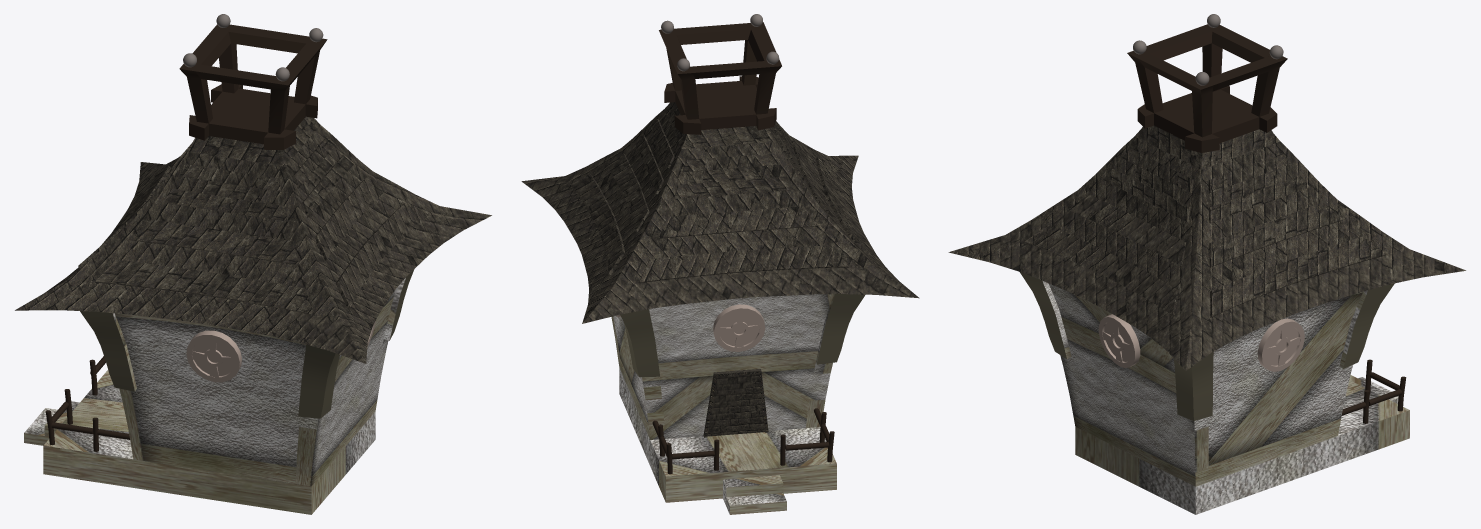
The model's file is ev_catili (1).fbx.
The picture shows the model from 3 angles, left to right: view 1: azimuth 30°, elevation 25°; view 2: azimuth 150°, elevation 25°; view 3: azimuth 270°, elevation 25°; orthographic projection. The views are drawn at different scales.
Parts seen in each view (by area): view 1: polySurface36, polySurface35, polySurface39, polySurface30; view 2: polySurface36, polySurface35, polySurface39, polySurface28, polySurface31; view 3: polySurface36, polySurface35, polySurface39, polySurface38, polySurface37.
Boxes of the visible parts, x1,y1,x2,y2 form: polySurface36: (15, 116, 491, 363); polySurface35: (24, 269, 414, 514); polySurface39: (179, 24, 327, 149); polySurface30: (186, 330, 241, 382); polySurface36: (521, 102, 919, 323); polySurface35: (611, 294, 865, 514); polySurface39: (659, 22, 781, 134); polySurface28: (703, 369, 768, 437); polySurface31: (713, 304, 765, 351); polySurface36: (948, 125, 1465, 370); polySurface35: (1020, 272, 1409, 514); polySurface39: (1127, 24, 1287, 152); polySurface38: (1257, 318, 1304, 371); polySurface37: (1098, 314, 1140, 367).
Bounding box in the file's own units: 6.43 × 5.69 × 6.43.
